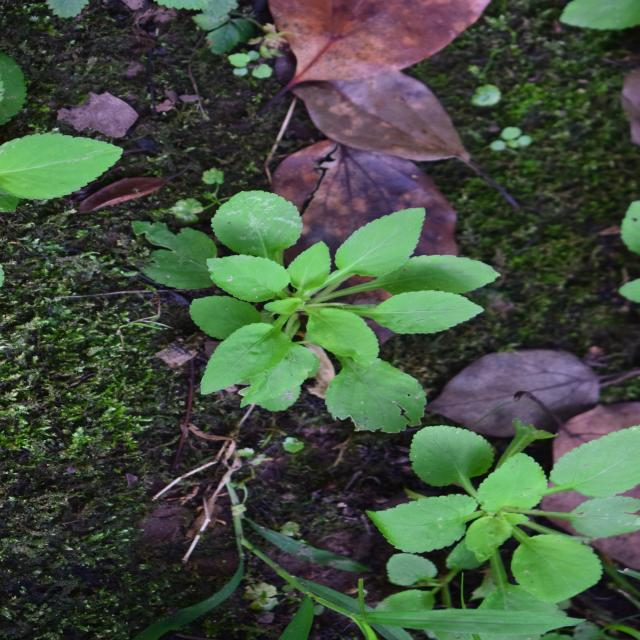Viola: (196, 175, 414, 438)
